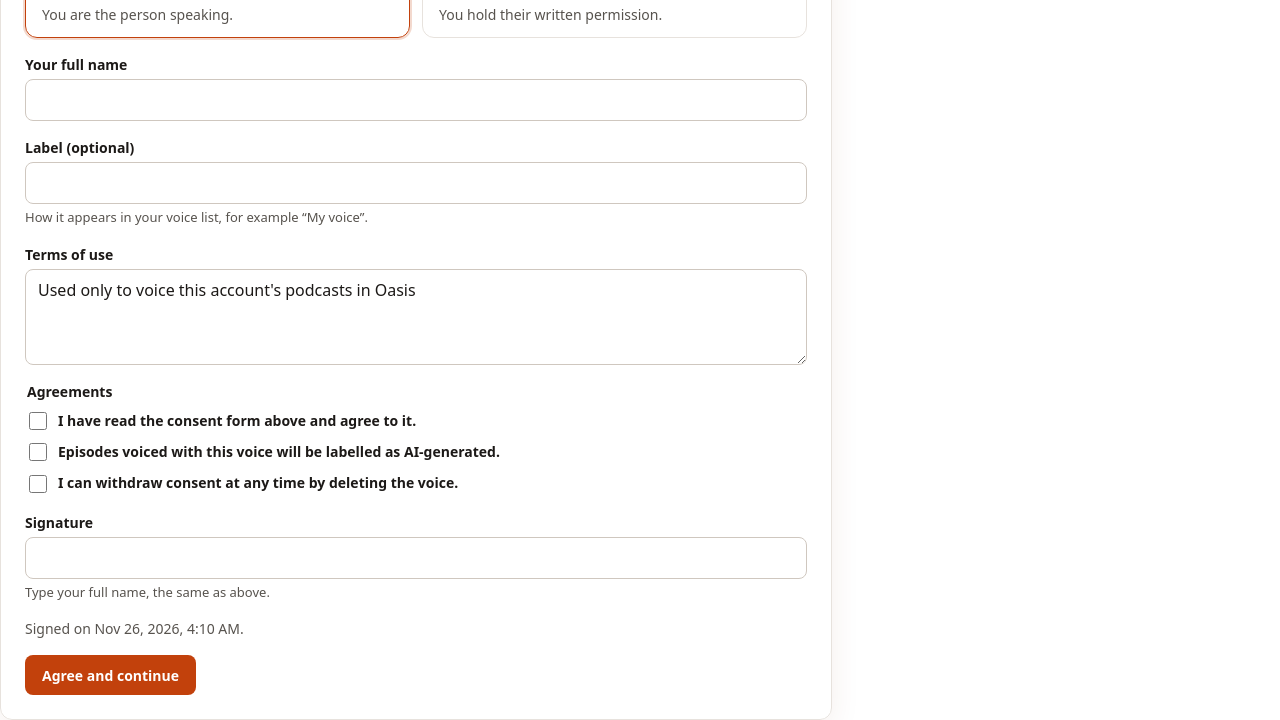
Test: adding a voice › will not record anything until the consent form is complete
(page scrolled)
Click the button "Agree and continue" at [110, 675], box 25,655 -> 196,695
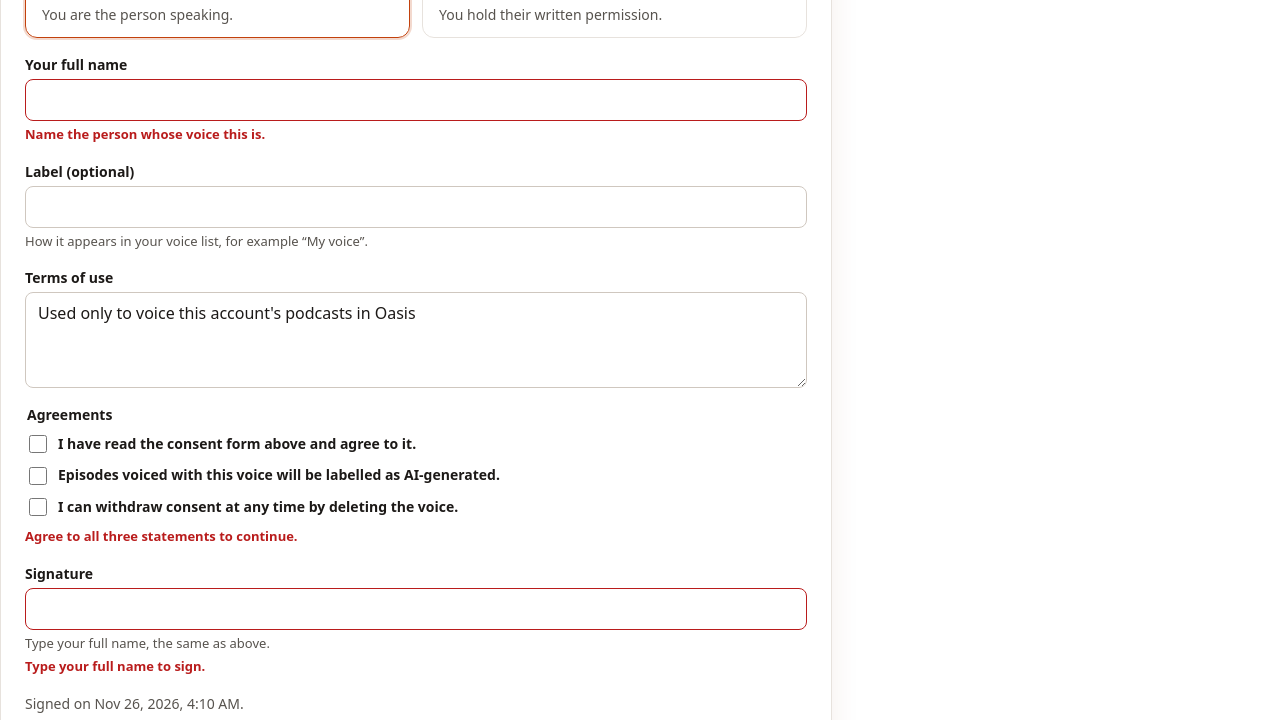
Expected: the text "Agree to all three statements to continue." is shown, 25,527 -> 298,545
Type "Ada Lovelace" into the field labelled "Your full name" at [416, 100], box 25,79 -> 807,121
Click the checkbox labelled "I have read the consent form above and agree to it." at [38, 444], box 29,435 -> 47,453
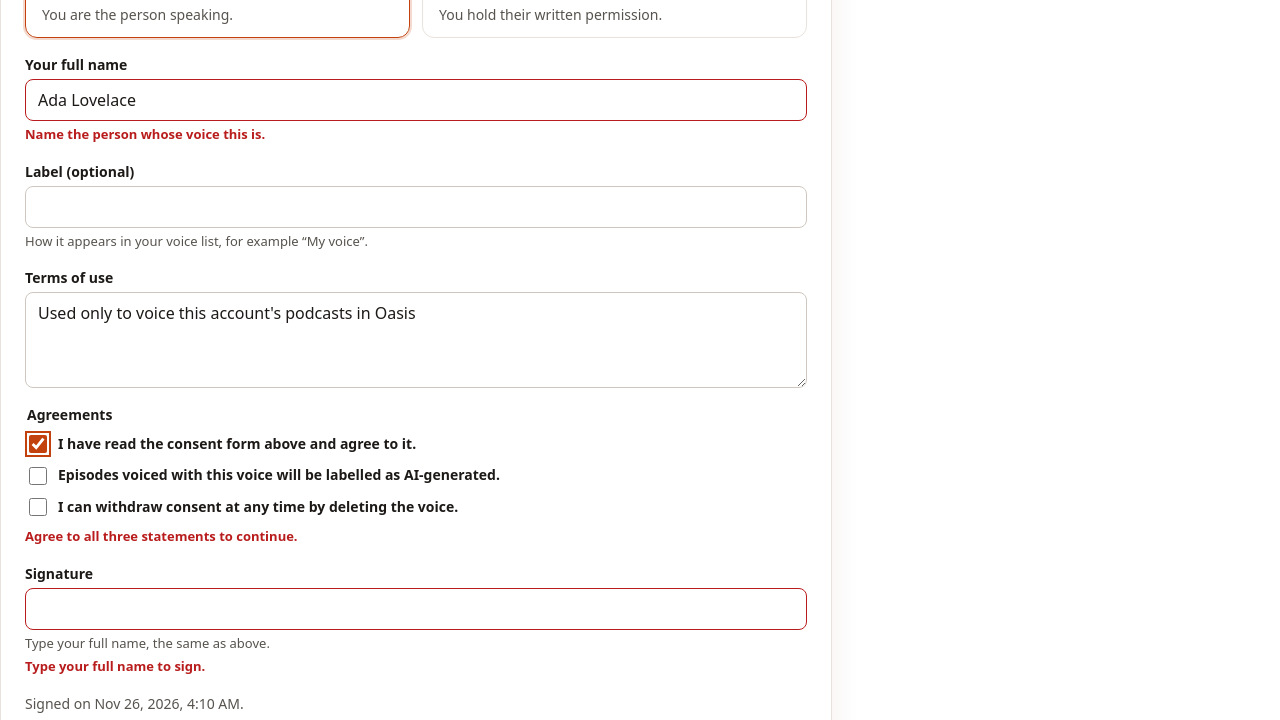
Click the checkbox labelled "labelled as AI-generated" at [38, 476], box 29,467 -> 47,485
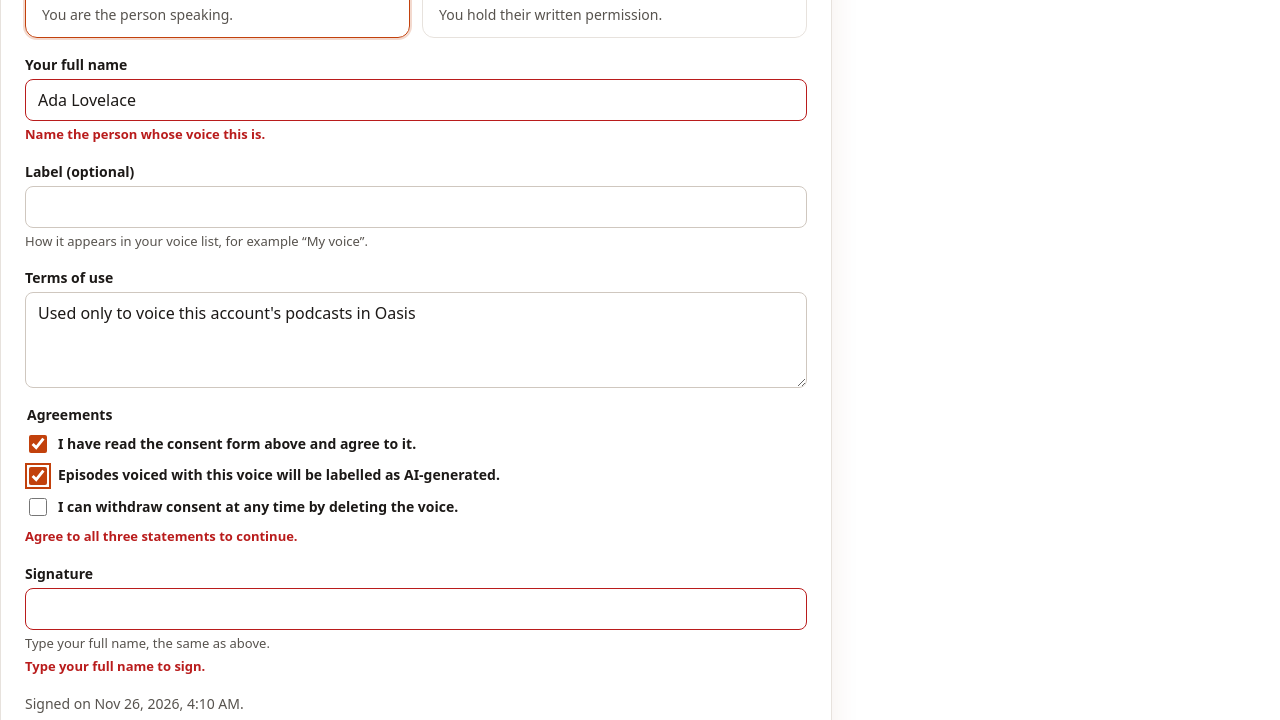
Click the checkbox labelled "I can withdraw consent at any time by deleting the voice." at [38, 507], box 29,498 -> 47,516
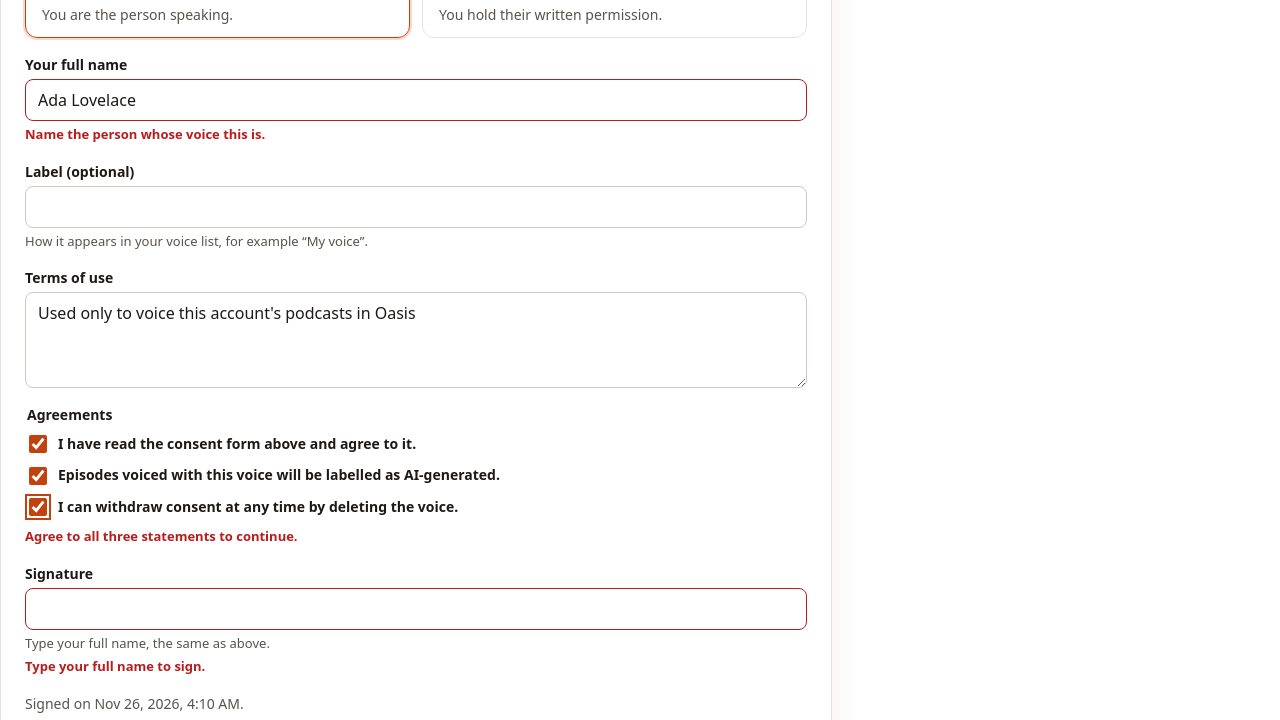
Type "Ada Lovelace" into the field labelled "Signature" at [416, 609], box 25,588 -> 807,630
(page scrolled)
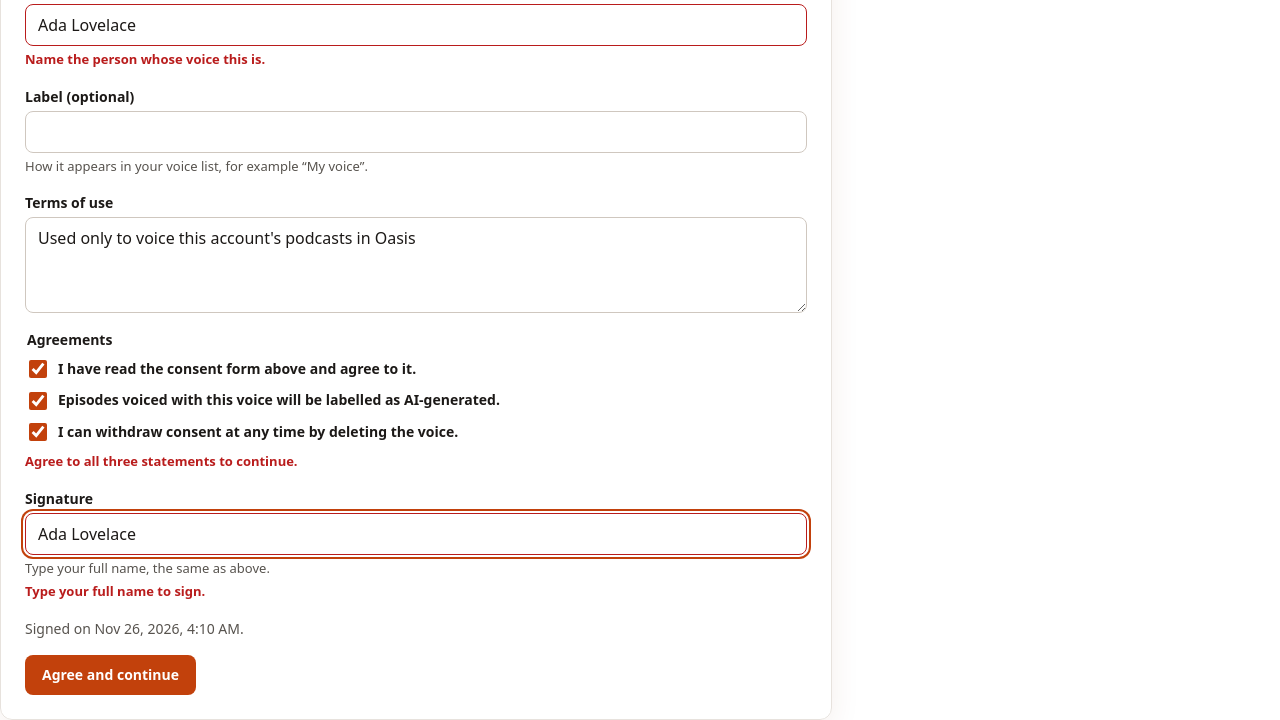
Click the button "Agree and continue" at [110, 675], box 25,655 -> 196,695
(page scrolled)
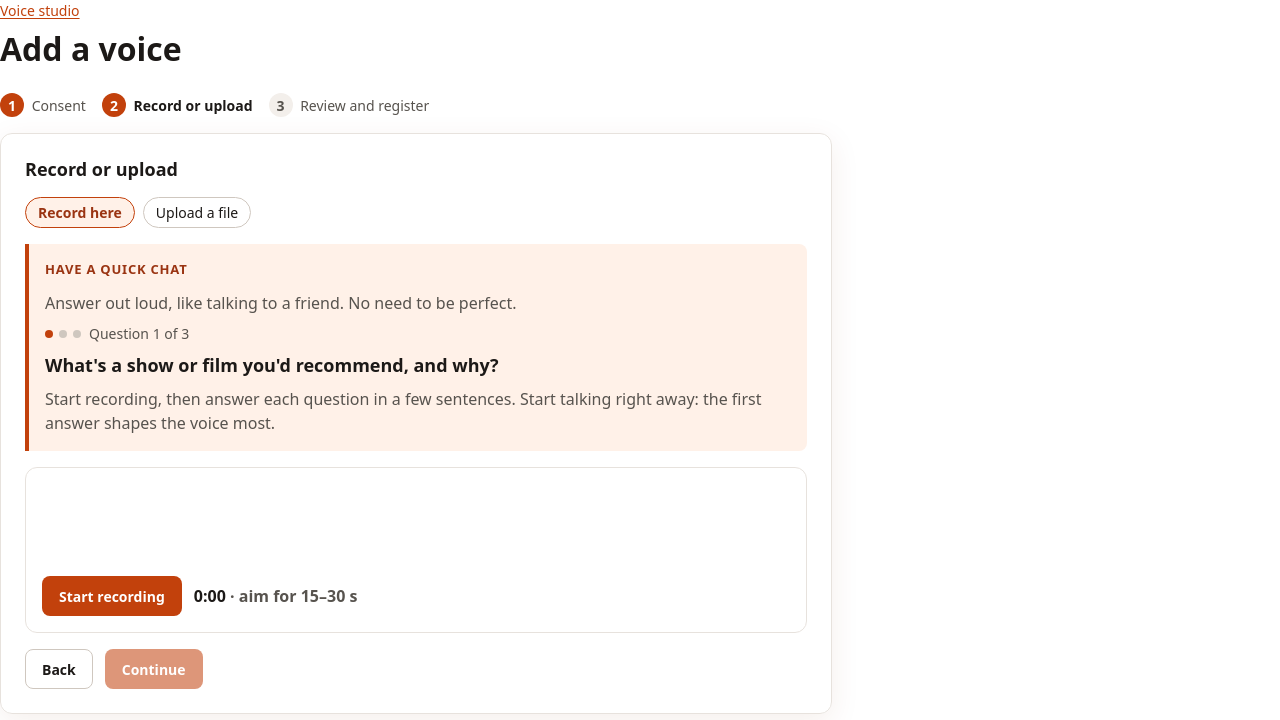
Expected: the heading "Record or upload" is shown, 25,157 -> 178,181
Expected: the button "Start recording" is shown, 42,576 -> 182,616
